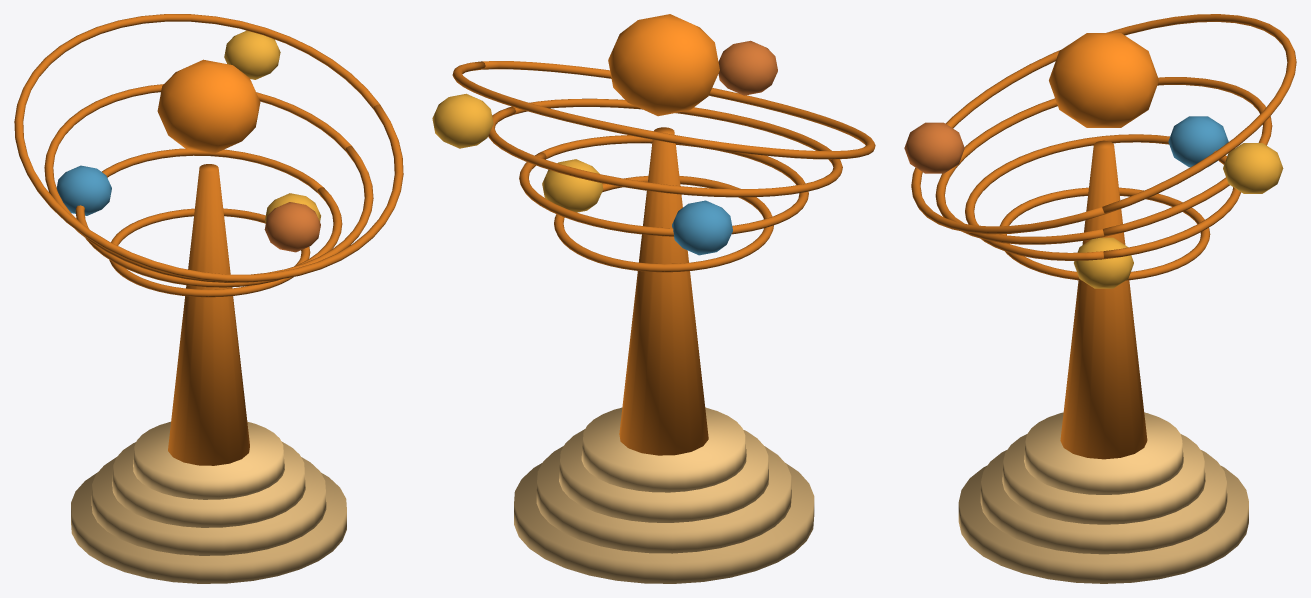
The model's file is orrery-Co5UTHbb.glb.
The picture shows the model from 3 angles, left to right: view 1: azimuth 30°, elevation 25°; view 2: azimuth 150°, elevation 25°; view 3: azimuth 270°, elevation 25°; orthographic projection. The views are drawn at different scales.
Visible parts, largest first — view 1: orrery; view 2: orrery; view 3: orrery.
Boxes of the visible parts, x1=… form: orrery: x1=14, y1=14, x2=403, y2=583; orrery: x1=432, y1=14, x2=875, y2=583; orrery: x1=904, y1=14, x2=1296, y2=583.
Size of the model in its own units: 3.2 by 4.1 by 3.
